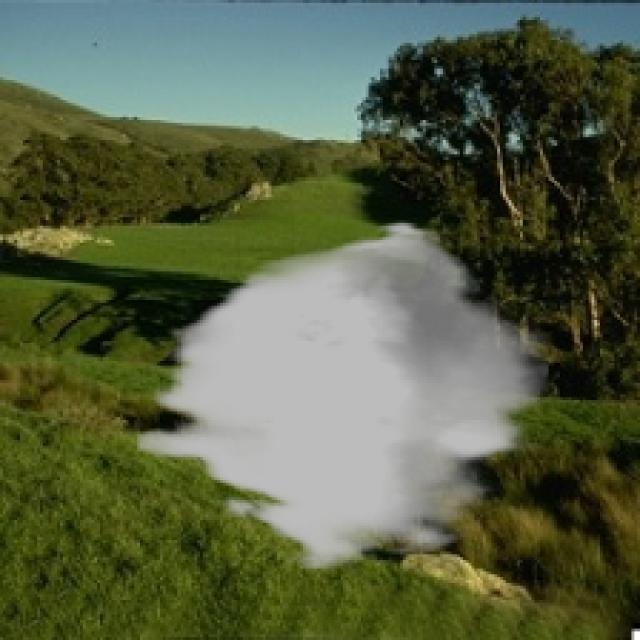Smoke: (137, 219, 549, 572)
